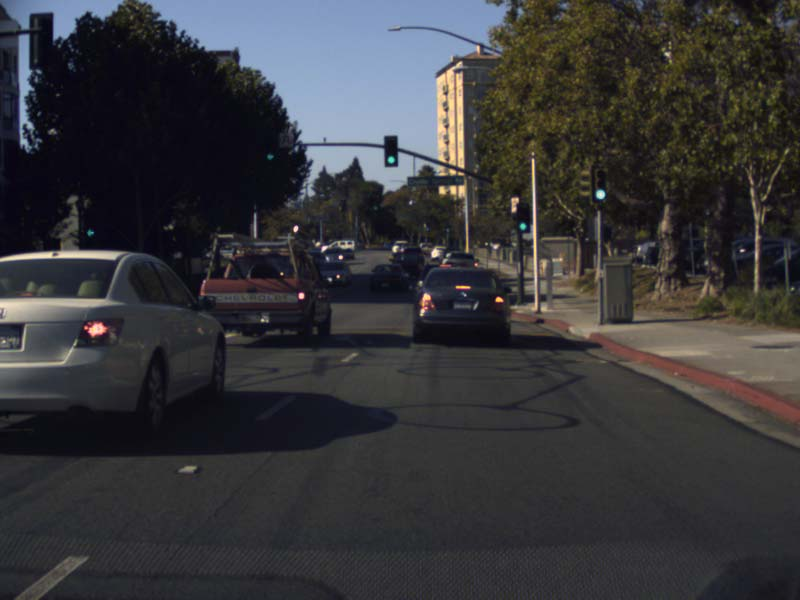Green: (384, 135, 397, 166), (594, 168, 606, 201), (517, 203, 527, 232), (85, 214, 95, 239), (265, 137, 274, 160), (373, 199, 378, 211), (425, 223, 429, 232), (445, 226, 450, 232)
